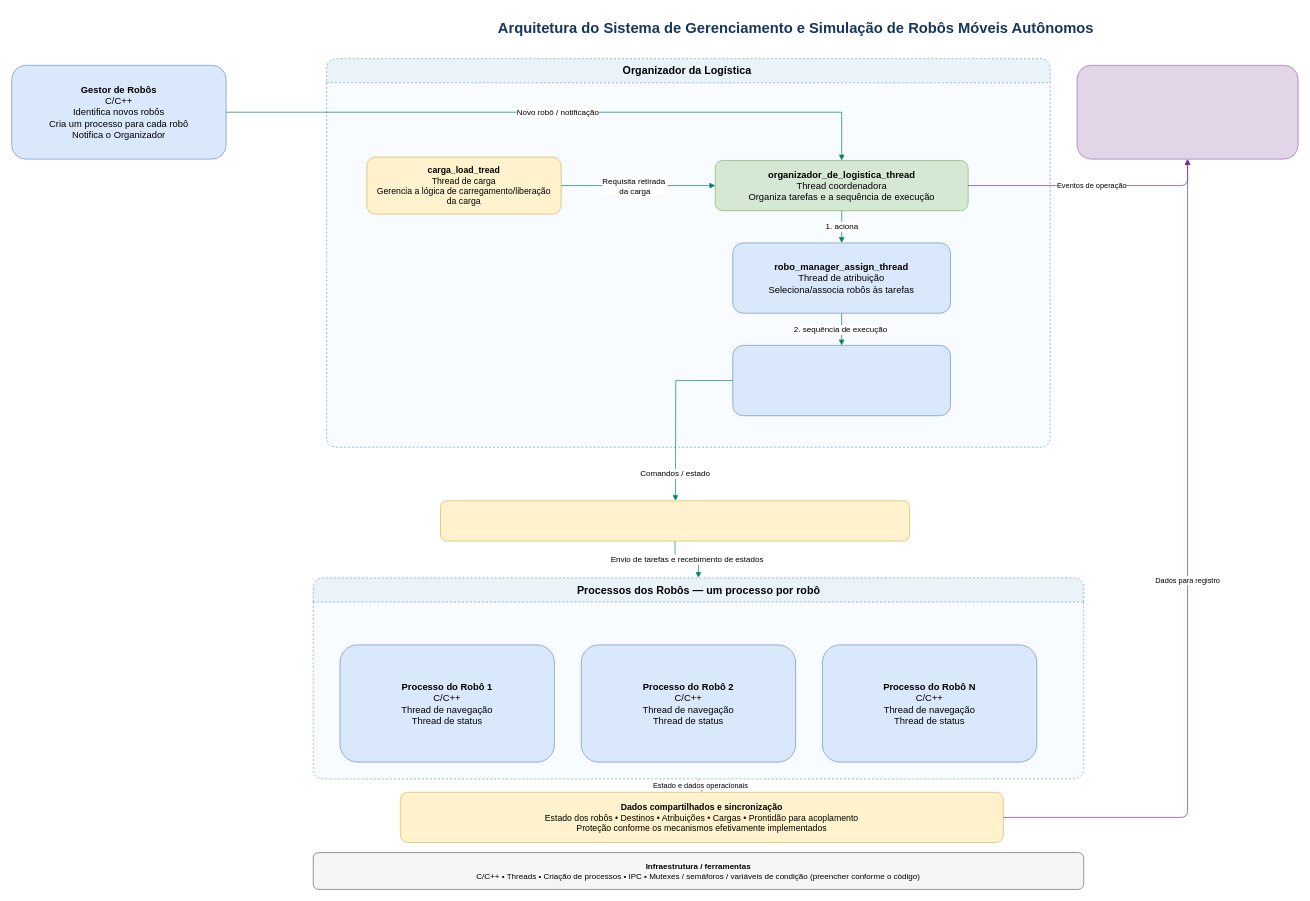
This 1310x901 diagram has some shape labels left out. The centre of each missing label's shape, as x and y in pixels:
Coletor de Dados C/C++ Registra eventos e histórico Armazena timestamp: the point at 1187,112
Comunicação com processos dos robôs IPC: [especificar mecanismo usado]: the point at 675,520
robo_thread Thread de gestão dos robôs Executa a etapa seguinte da sequência: the point at 841,380
